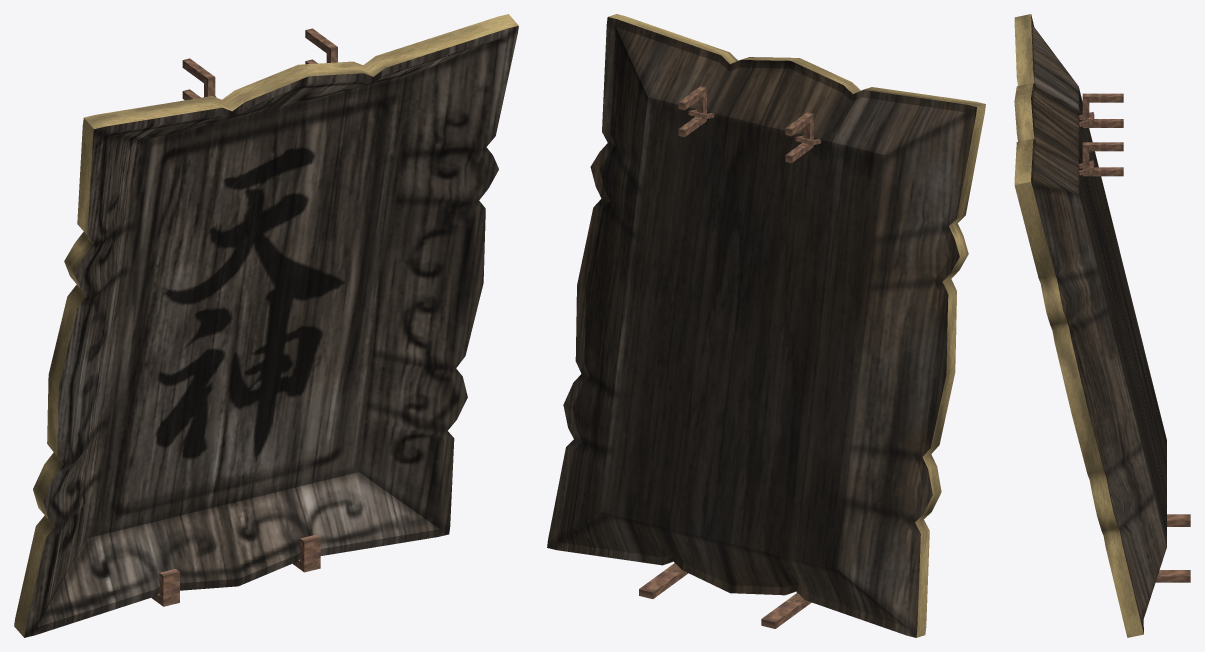
File: Torii_Accessory_Sign03.fbx
The picture shows the model from 3 angles, left to right: view 1: azimuth 30°, elevation 25°; view 2: azimuth 150°, elevation 25°; view 3: azimuth 270°, elevation 25°; orthographic projection. The views are drawn at different scales.
Parts seen in each view (by area): view 1: Torii_access_sign03; view 2: Torii_access_sign03; view 3: Torii_access_sign03.
Part boxes in pixels (x1,y1,x2,y2): Torii_access_sign03: [14, 14, 518, 637]; Torii_access_sign03: [547, 14, 985, 637]; Torii_access_sign03: [1014, 14, 1190, 637].
Bounding box in the file's own units: 0.6719 × 0.8541 × 0.2981.
